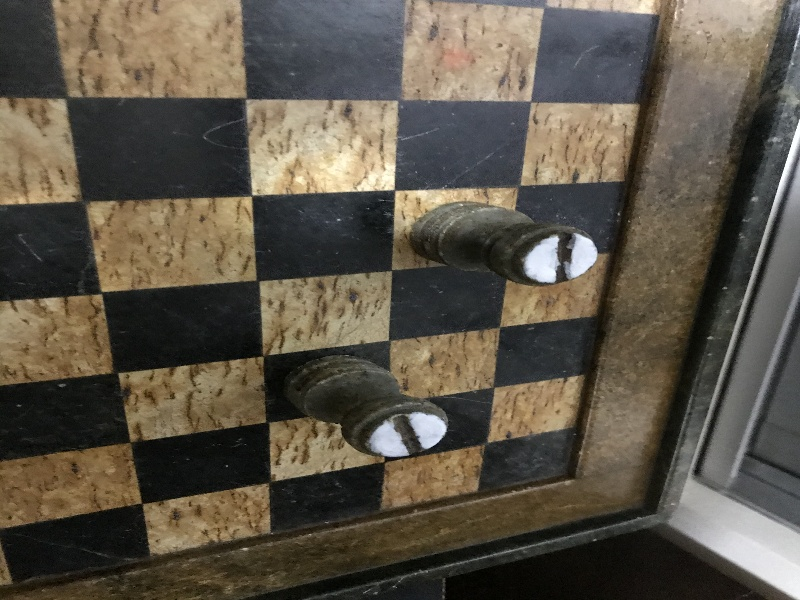WhiteRook: (288, 354, 448, 458), (410, 203, 598, 286)
